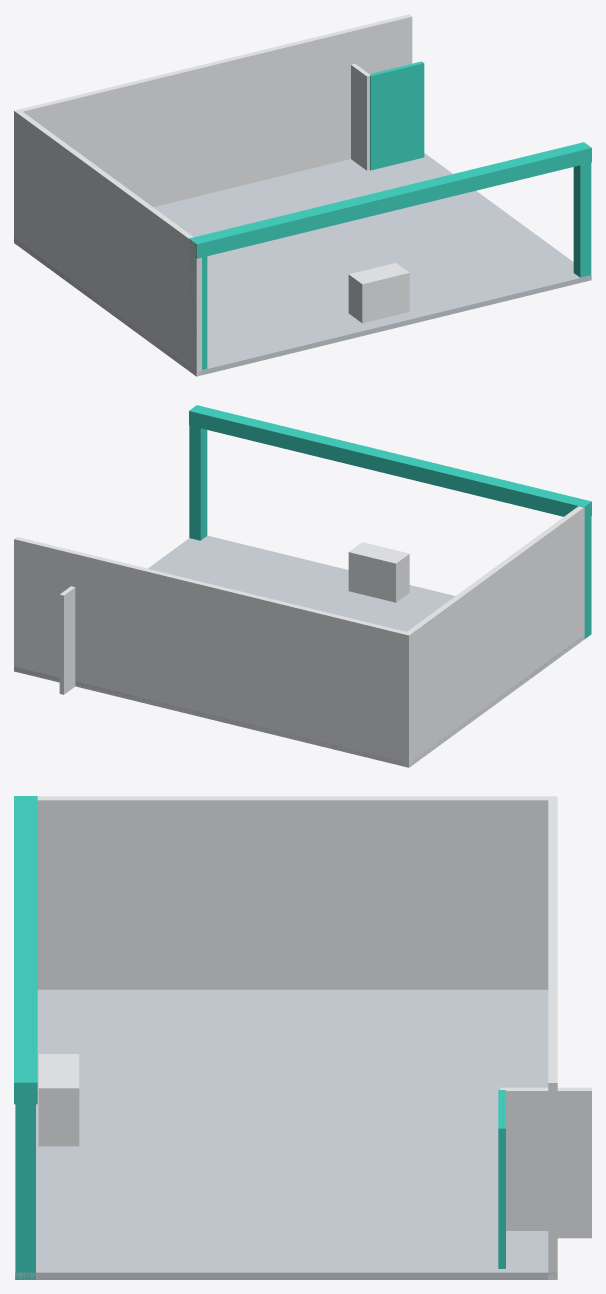
The picture shows the model from 3 angles, top to bottom: view 1: azimuth 30°, elevation 25°; view 2: azimuth 150°, elevation 25°; view 3: azimuth 270°, elevation 25°; orthographic projection. The views are drawn at different scales.
Parts seen in each view (by area): view 1: Exhibition Booth Concept; view 2: Exhibition Booth Concept; view 3: Exhibition Booth Concept.
Boxes of the visible parts, <box> form: Exhibition Booth Concept: <box>14,14,591,376</box>; Exhibition Booth Concept: <box>14,405,591,767</box>; Exhibition Booth Concept: <box>14,796,591,1279</box>.
Bounding box in the file's own units: 10 × 3.2 × 8.52.
